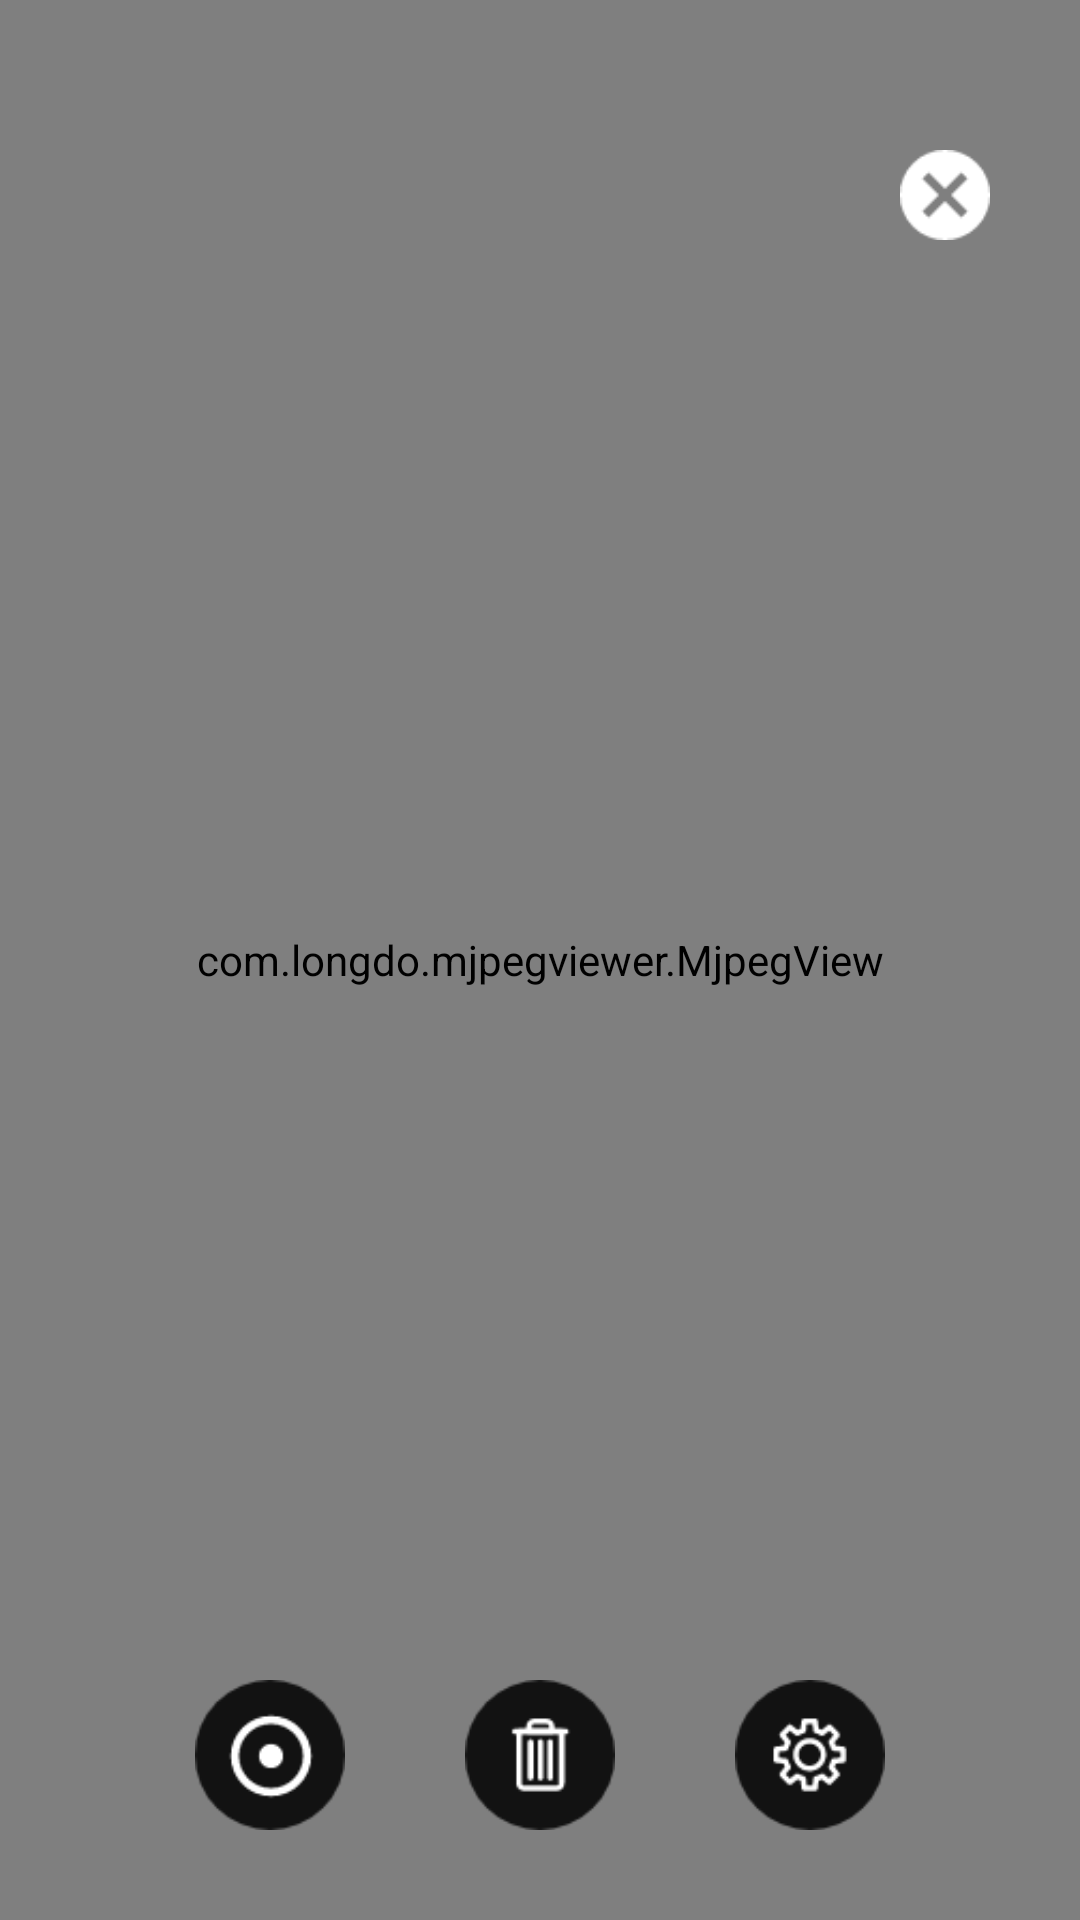

Icons on this 1080px x 1920px Android screen, each with the point to tap as (x=x, y=y):
cancel: (x=945, y=195)
delete: (x=540, y=1755)
setting: (x=810, y=1755)
